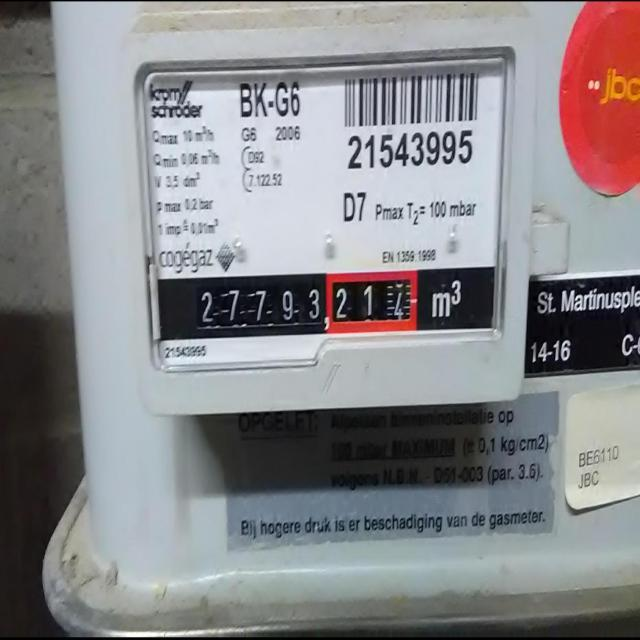gaz_meter: (138, 62, 509, 348)
indication: (190, 273, 418, 341)
